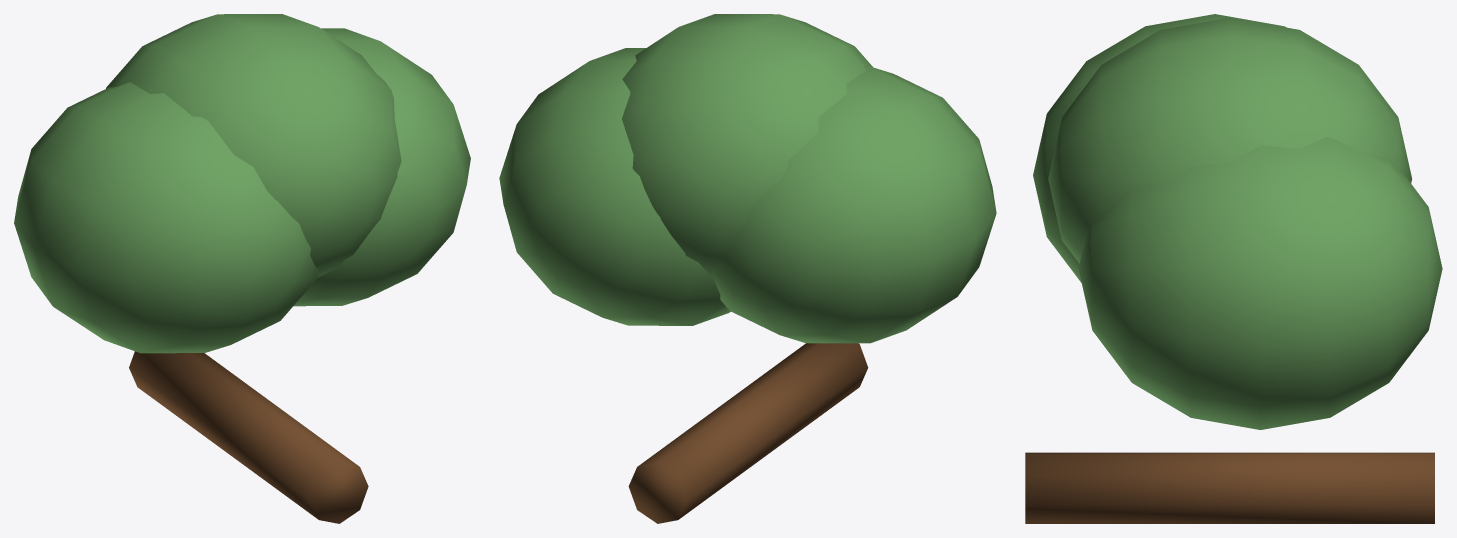
The model's file is tree_maple.glb.
3 views of the same model, side by side, from view 1: azimuth 30°, elevation 25°; view 2: azimuth 150°, elevation 25°; view 3: azimuth 270°, elevation 25° (orthographic). The views are drawn at different scales.
Parts seen in each view (by area): view 1: maple_canopy.001, maple_canopy, maple_canopy.002, tree_trunk; view 2: maple_canopy.001, maple_canopy, maple_canopy.002, tree_trunk; view 3: maple_canopy.002, maple_canopy, tree_trunk, maple_canopy.001.
Boxes of the visible parts, x1,y1,x2,y2 form: maple_canopy.001: (14,82,319,353); maple_canopy: (106,14,401,277); maple_canopy.002: (293,28,470,306); tree_trunk: (129,351,368,523); maple_canopy.001: (712,65,996,343); maple_canopy: (622,14,872,277); maple_canopy.002: (499,48,730,325); tree_trunk: (628,343,868,523); maple_canopy.002: (1078,137,1442,429); maple_canopy: (1048,17,1411,263); tree_trunk: (1025,452,1434,523); maple_canopy.001: (1033,14,1286,282).
Size of the model in its own units: 0.75 by 0.7064 by 0.55.
